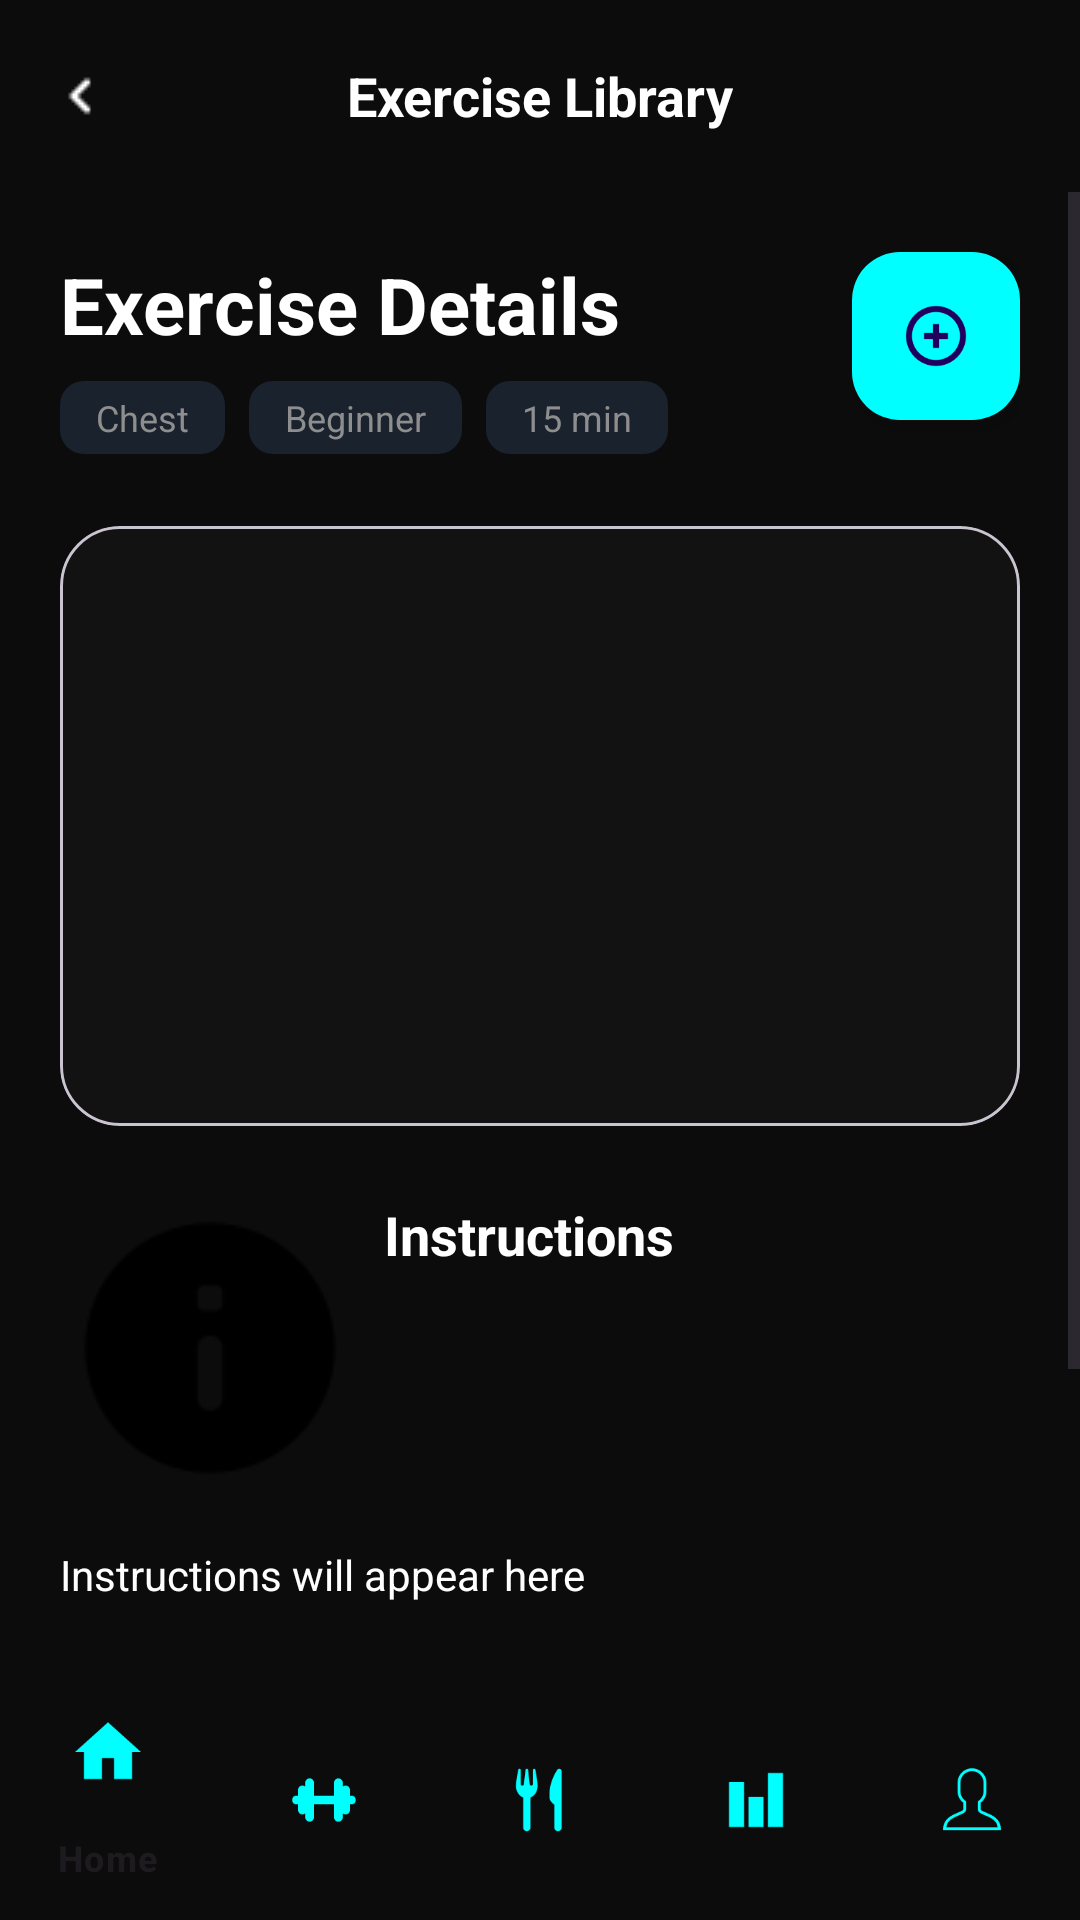

Icons on this 1080*1920 Android screen, each with its box as (x1, y1, x2, y2):
add: (852, 252, 1020, 420)
back: (68, 77, 91, 115)
